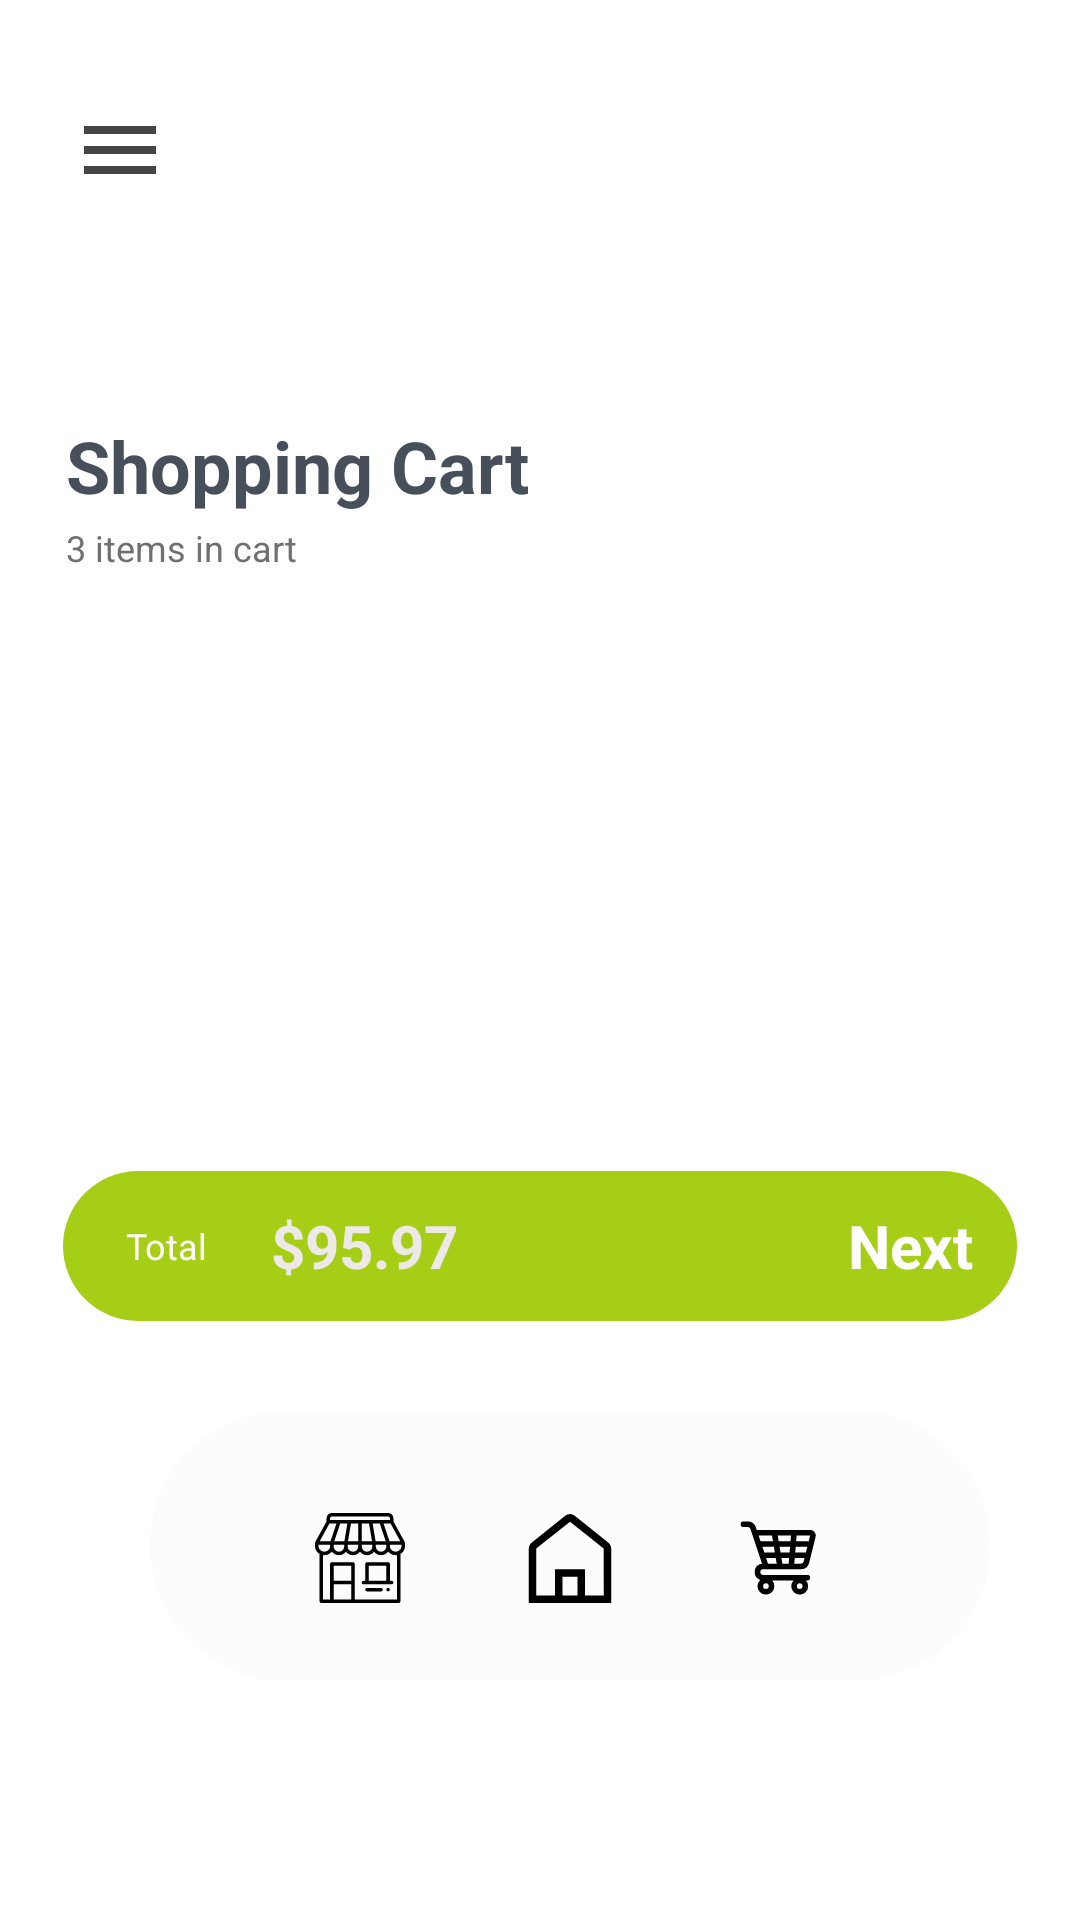

Locate icon controls on the screen. Image size 1080x1920, boxes as (x1, y1, x2, y2).
cart: (740, 1521, 816, 1595)
draw: (84, 126, 156, 174)
home: (528, 1514, 612, 1603)
shop: (315, 1513, 405, 1603)
